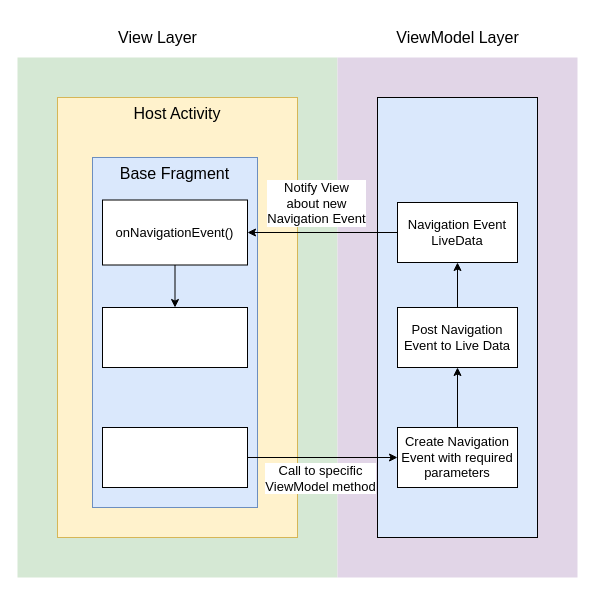
Image size: 594x594. Some labels were removed from this diagram. The box of each missing label's shape, as (x1, y1, x2, y2) in pixels:
Base Fragment ViewModel: (376, 96, 538, 538)
Change View with Navigation Component: (102, 306, 248, 368)
Start view change: (102, 426, 248, 488)
